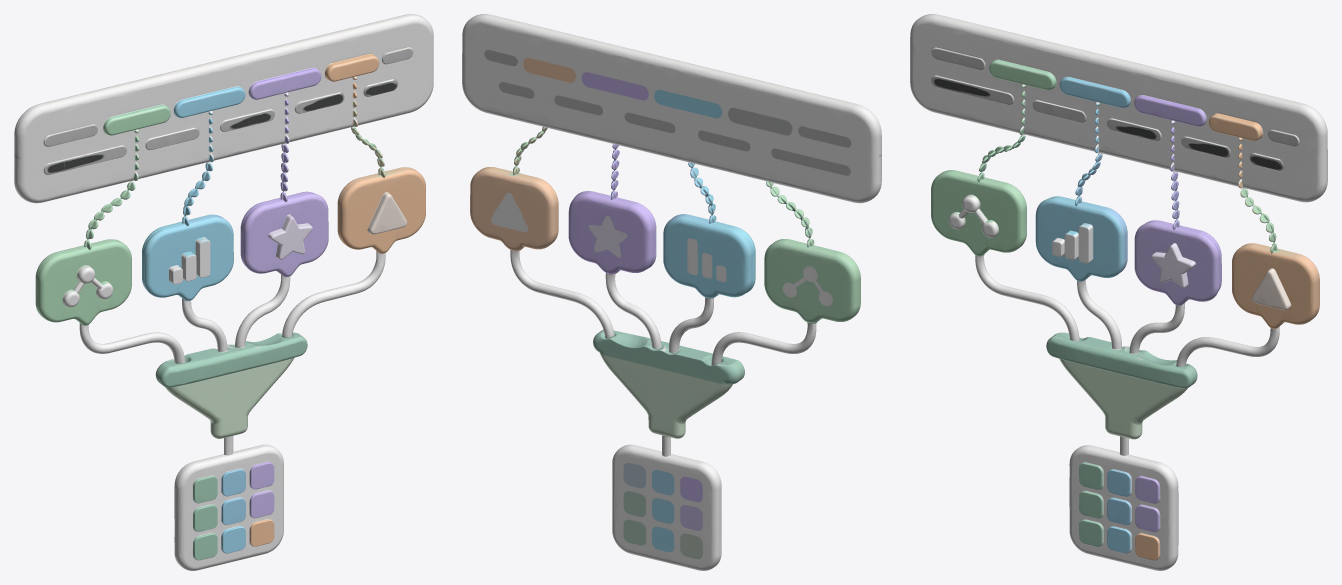
The model's file is aspect-draco-defaut.glb.
The picture shows the model from 3 angles, left to right: view 1: azimuth 30°, elevation 25°; view 2: azimuth 150°, elevation 25°; view 3: azimuth 330°, elevation 25°; orthographic projection.
Size of the model in its own units: 1.65 by 1.9 by 0.0855.
1 material, 1 textured.
